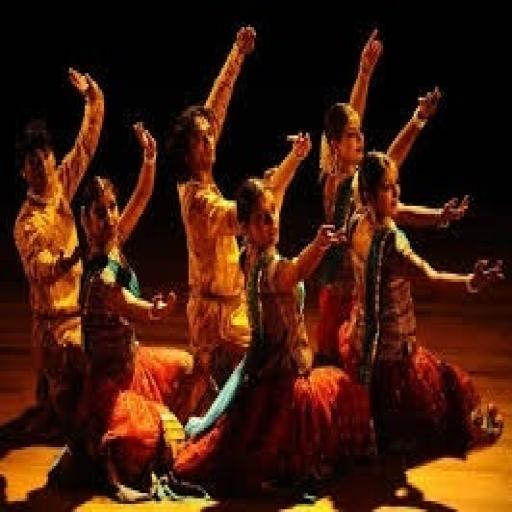dancing: (0, 20, 498, 512)
